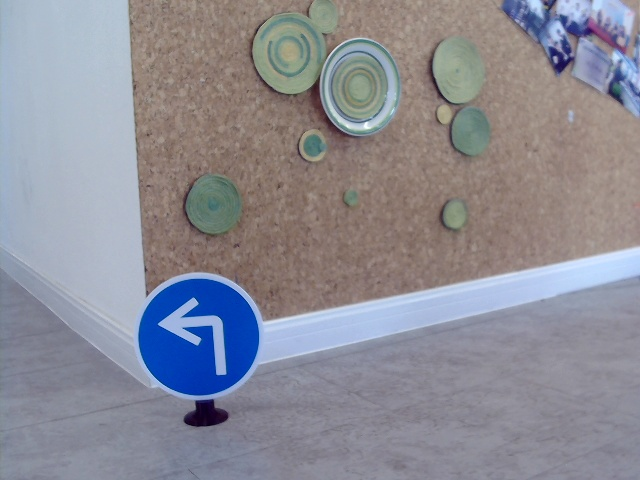turn_left: (155, 293, 236, 377)
